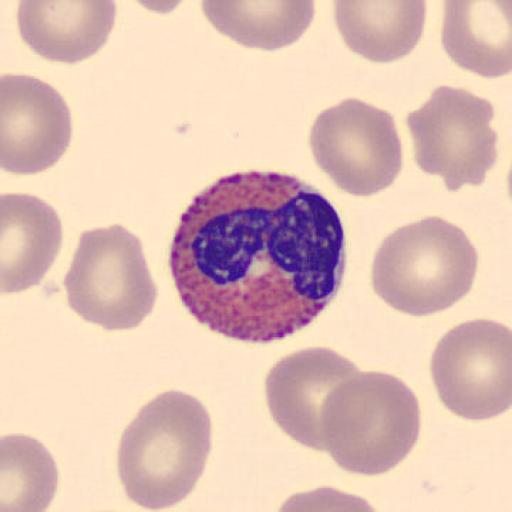RBC: (116, 387, 214, 511), (369, 214, 480, 320), (317, 370, 423, 476), (262, 344, 364, 453), (62, 222, 158, 334), (406, 83, 499, 193), (306, 95, 404, 198), (428, 316, 512, 423), (1, 71, 74, 177), (16, 0, 118, 66), (1, 192, 64, 295), (332, 0, 429, 65), (199, 0, 317, 52), (441, 0, 512, 80), (1, 431, 59, 512), (270, 484, 387, 512), (128, 0, 192, 17)
WBC: (166, 168, 349, 343)
